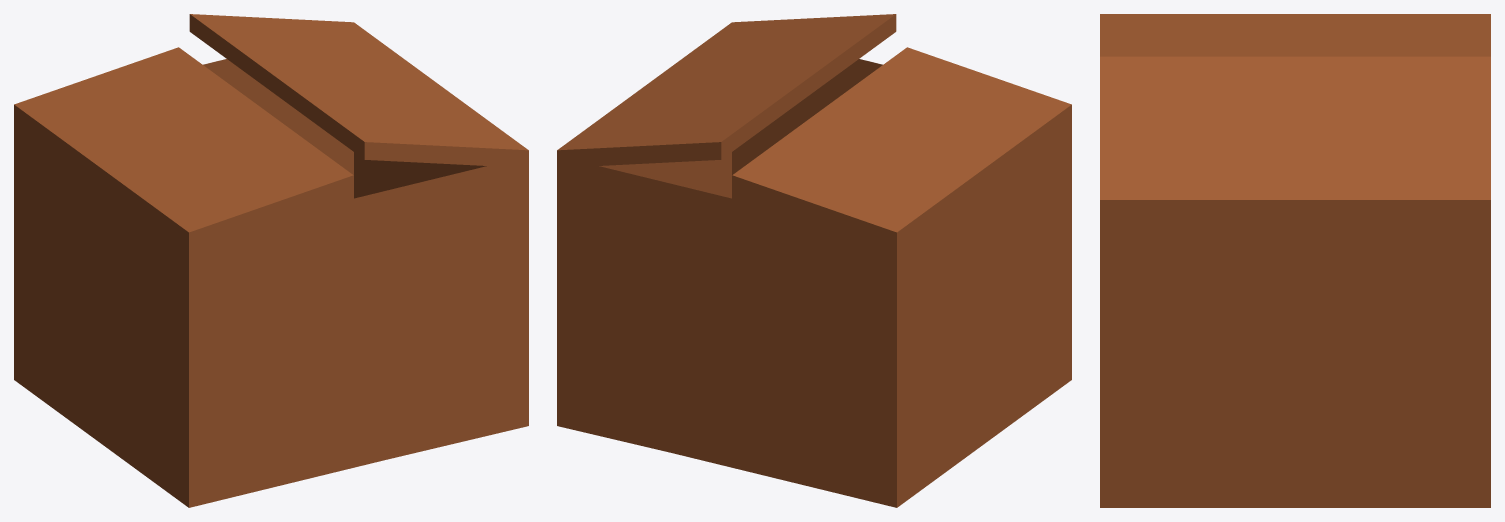
The model's file is kutubir.fbx.
3 renders of one model, left to right at view 1: azimuth 30°, elevation 25°; view 2: azimuth 150°, elevation 25°; view 3: azimuth 270°, elevation 25°, orthographic. The views are drawn at different scales.
Visible parts, largest first — view 1: Cube.001; view 2: Cube.001; view 3: Cube.001.
Boxes of the visible parts, x1,y1,x2,y2 form: Cube.001: (14, 14, 528, 507); Cube.001: (557, 14, 1071, 507); Cube.001: (1100, 14, 1490, 507).
Size of the model in its own units: 158 by 144 by 141.
